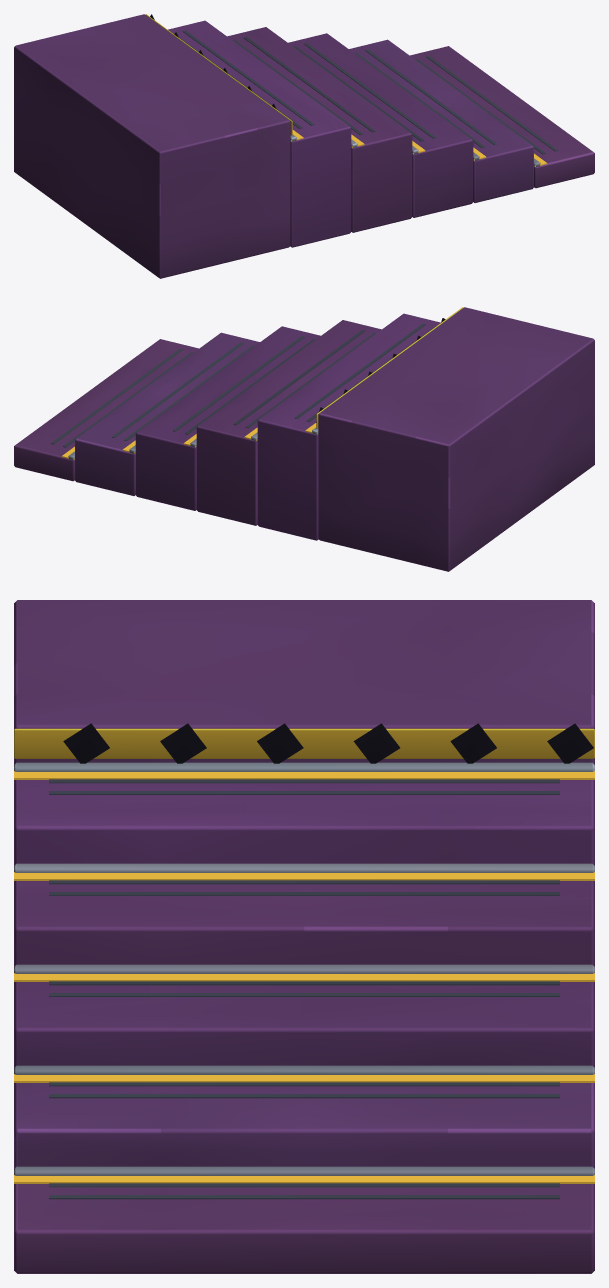
Rendered from SM_Stage4_WardrobeStairs.fbx.
The picture shows the model from 3 angles, top to bottom: view 1: azimuth 30°, elevation 25°; view 2: azimuth 150°, elevation 25°; view 3: azimuth 270°, elevation 25°; orthographic projection. The views are drawn at different scales.
Parts seen in each view (by area): view 1: SM_Stage4_WardrobeStairs; view 2: SM_Stage4_WardrobeStairs; view 3: SM_Stage4_WardrobeStairs.
Boxes of the visible parts, x1,y1,x2,y2 form: SM_Stage4_WardrobeStairs: [14, 14, 594, 278]; SM_Stage4_WardrobeStairs: [14, 307, 594, 571]; SM_Stage4_WardrobeStairs: [14, 600, 594, 1273].
Bounding box in the file's own units: 430 × 123 × 250.
